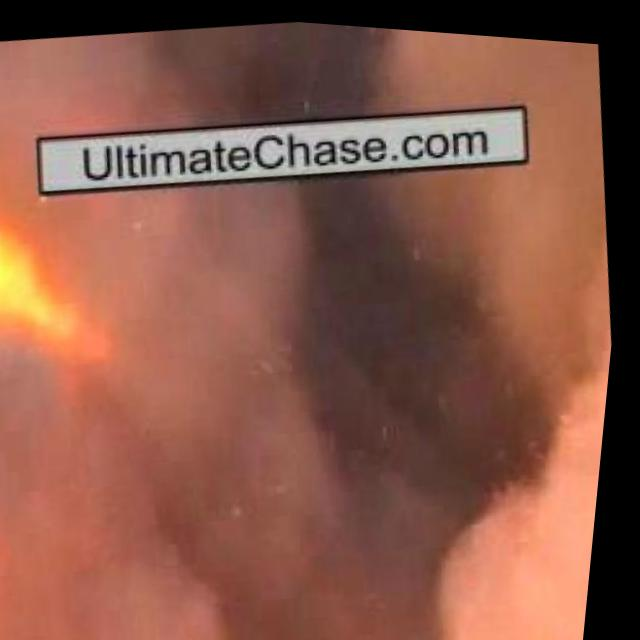Fire: (0, 170, 147, 389)
